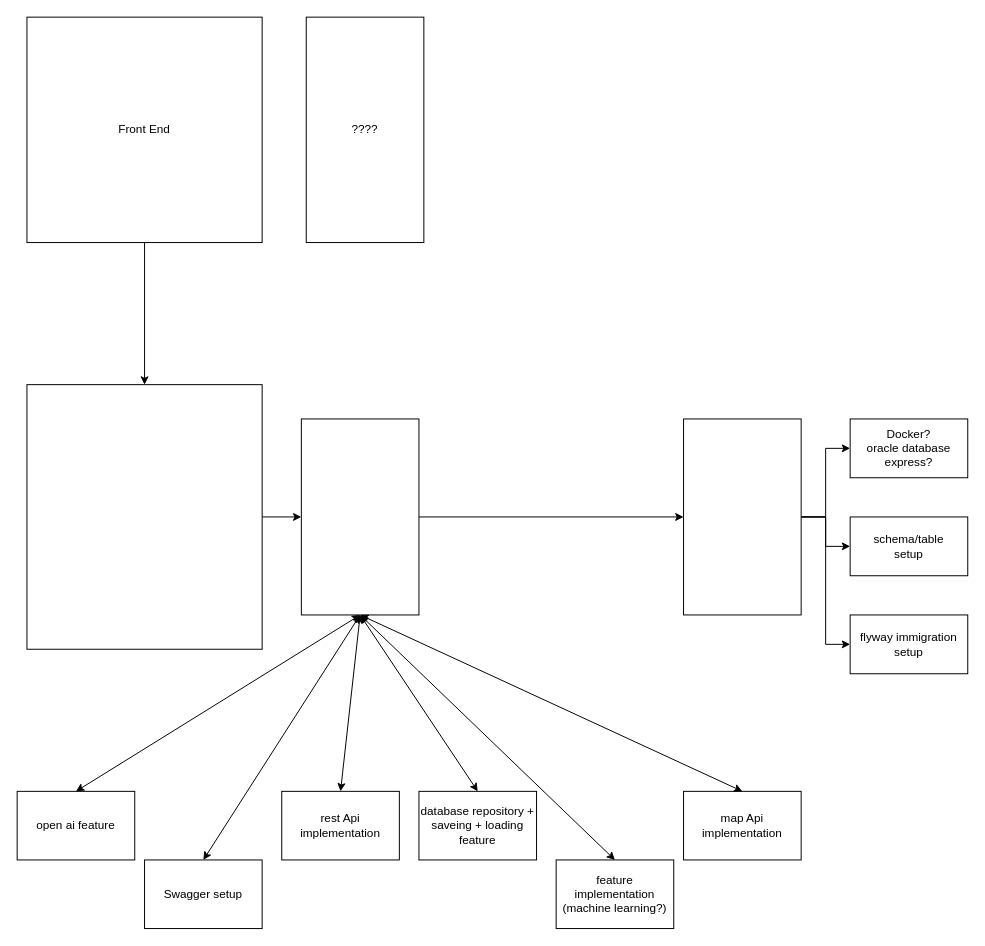
This 985x946 diagram has some shape labels left out. The shapes that lost their labels are listed below. From the top down, each one's box as (x1, y1, x2, y2) in pixels, then its label:
(26, 384, 262, 649): Backend
(300, 418, 419, 615): Micro Service
(683, 418, 801, 615): Oracle Database
